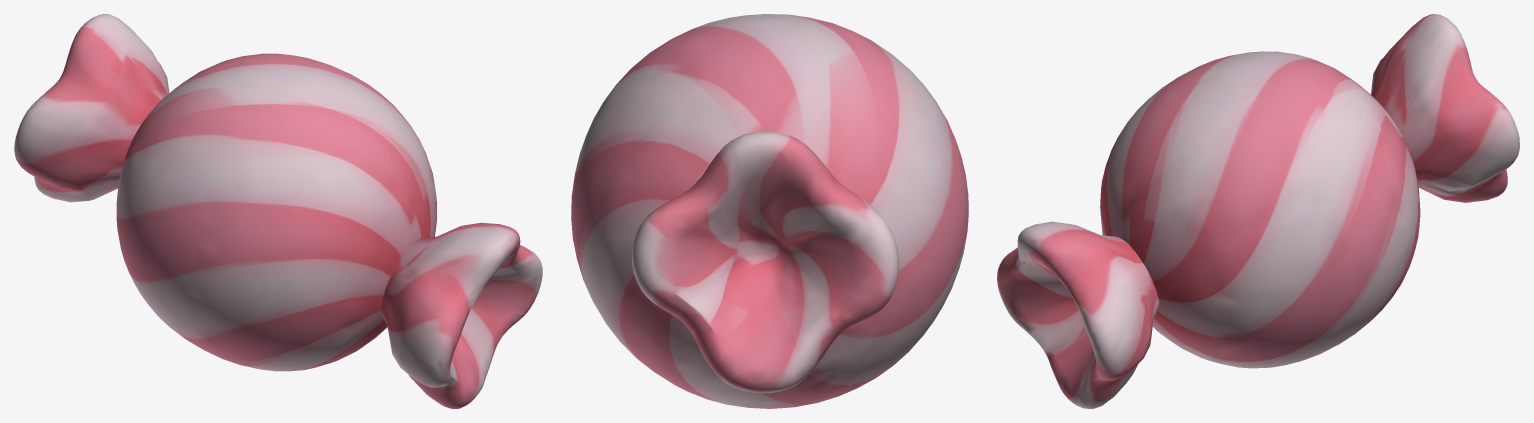
File: S10_CandyWrapped_LOD0.fbx
The picture shows the model from 3 angles, left to right: view 1: azimuth 30°, elevation 25°; view 2: azimuth 150°, elevation 25°; view 3: azimuth 270°, elevation 25°; orthographic projection. The views are drawn at different scales.
Parts seen in each view (by area): view 1: S10_CandyWrapped_LOD0; view 2: S10_CandyWrapped_LOD0; view 3: S10_CandyWrapped_LOD0.
Boxes of the visible parts, box(x1,y1,x2,y2) form: S10_CandyWrapped_LOD0: box(14, 14, 542, 408); S10_CandyWrapped_LOD0: box(571, 14, 968, 408); S10_CandyWrapped_LOD0: box(997, 14, 1519, 408).
Size of the model in its own units: 0.0384 by 0.03 by 0.0477.
Materials: 1 (1 with a texture image).
